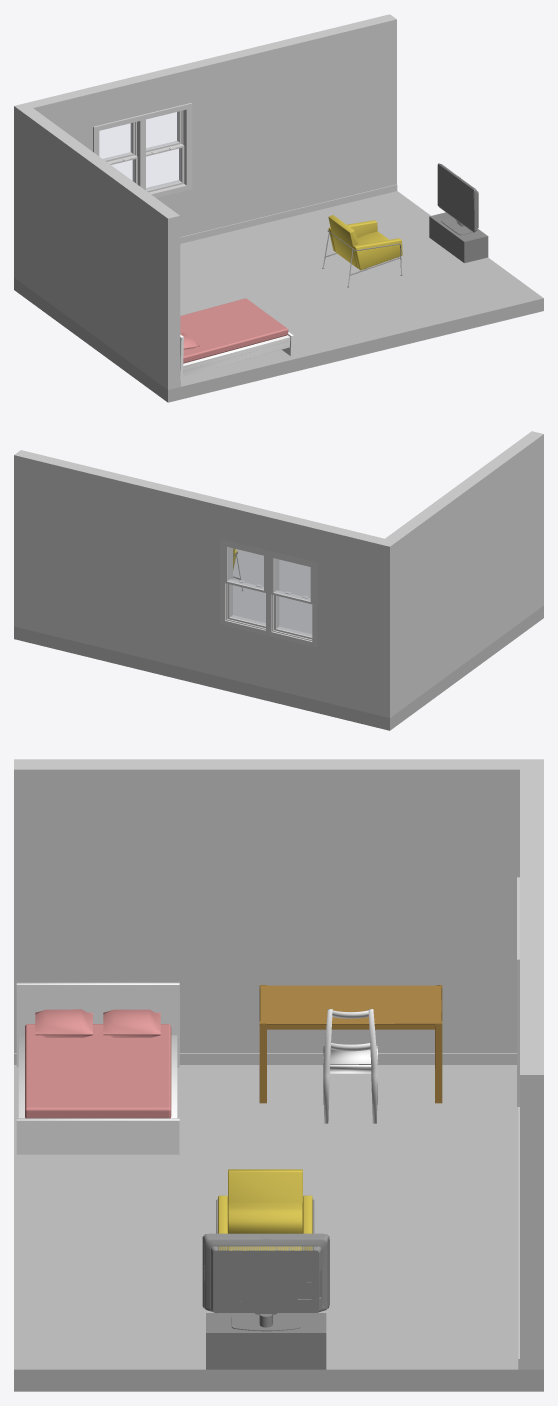
The model's file is L14_W20_furniture3_privacy1.glb.
The picture shows the model from 3 angles, top to bottom: view 1: azimuth 30°, elevation 25°; view 2: azimuth 150°, elevation 25°; view 3: azimuth 270°, elevation 25°; orthographic projection. The views are drawn at different scales.
Size of the model in its own units: 248 by 116 by 176.
